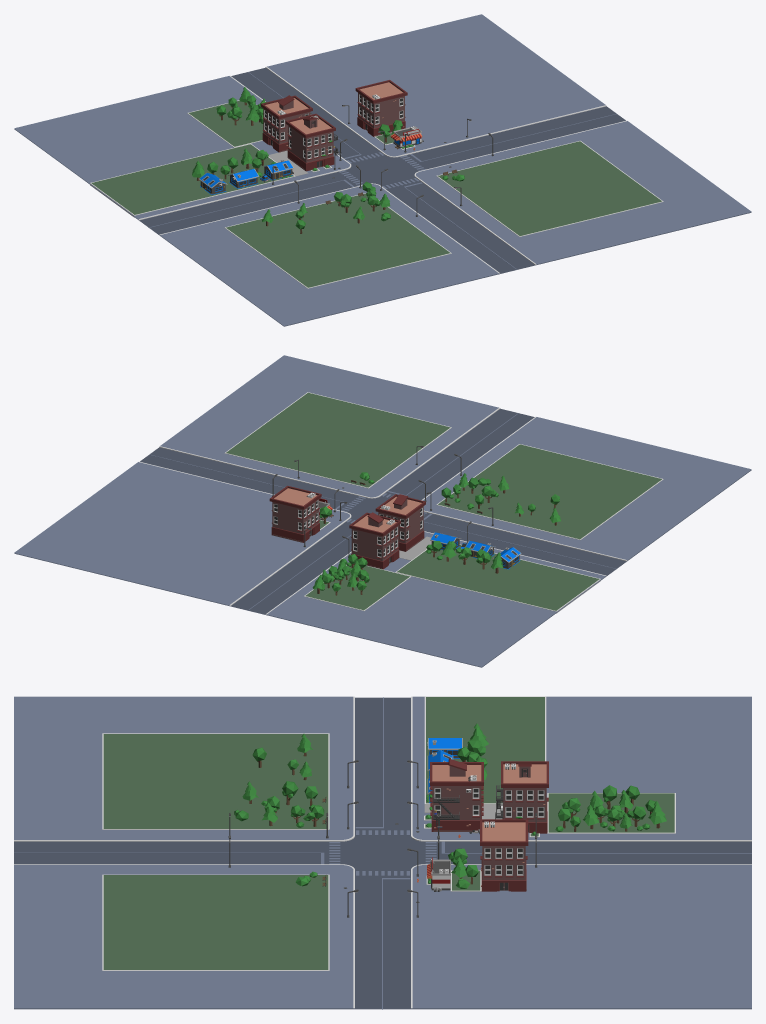
Rendered from map1.2.fbx.
The picture shows the model from 3 angles, top to bottom: view 1: azimuth 30°, elevation 25°; view 2: azimuth 150°, elevation 25°; view 3: azimuth 270°, elevation 25°; orthographic projection. The views are drawn at different scales.
Visible parts, largest first — view 1: MARCIAPIEDE4, STRADA, MARCIAPIEDE, MARCIAPIEDE2, MARCIAPIEDE3, ERBA2, ERBA1, ERBA5, CASA, CASA3, ERBA10, CASA1; view 2: MARCIAPIEDE4, STRADA, MARCIAPIEDE, MARCIAPIEDE2, MARCIAPIEDE3, ERBA2, ERBA1, ERBA5, CASA3, CASA1, ERBA10, CASA; view 3: MARCIAPIEDE4, STRADA, MARCIAPIEDE2, MARCIAPIEDE, MARCIAPIEDE3, ERBA2, ERBA1, ERBA5, CASA, CASA3, CASA1, ERBA10 (+2 smaller).
Part boxes in pixels (<box>): MARCIAPIEDE4: <box>265,14,606,157</box>; STRADA: <box>14,67,751,326</box>; MARCIAPIEDE: <box>414,120,751,264</box>; MARCIAPIEDE2: <box>159,183,500,325</box>; MARCIAPIEDE3: <box>14,75,351,220</box>; ERBA2: <box>436,140,663,236</box>; ERBA1: <box>224,193,451,288</box>; ERBA5: <box>90,143,295,217</box>; CASA: <box>285,113,337,171</box>; CASA3: <box>355,80,407,136</box>; ERBA10: <box>187,100,263,147</box>; CASA1: <box>261,95,312,152</box>; MARCIAPIEDE4: <box>14,461,351,605</box>; STRADA: <box>14,408,751,667</box>; MARCIAPIEDE: <box>159,355,500,498</box>; MARCIAPIEDE2: <box>421,416,751,561</box>; MARCIAPIEDE3: <box>265,531,606,666</box>; ERBA2: <box>224,392,451,488</box>; ERBA1: <box>436,444,663,540</box>; ERBA5: <box>395,544,600,613</box>; CASA3: <box>269,485,321,542</box>; CASA1: <box>349,512,400,569</box>; ERBA10: <box>304,565,411,611</box>; CASA: <box>375,494,425,551</box>; MARCIAPIEDE4: <box>411,864,751,1008</box>; STRADA: <box>14,697,751,1009</box>; MARCIAPIEDE2: <box>14,696,354,841</box>; MARCIAPIEDE: <box>14,864,354,1008</box>; MARCIAPIEDE3: <box>411,696,751,841</box>; ERBA2: <box>102,874,329,970</box>; ERBA1: <box>102,733,329,829</box>; ERBA5: <box>424,696,546,803</box>; CASA: <box>430,758,483,831</box>; CASA3: <box>480,819,528,891</box>; CASA1: <box>495,761,548,833</box>; ERBA10: <box>547,793,675,833</box>.
Bounding box in the file's own units: 106 × 10.08 × 106.
